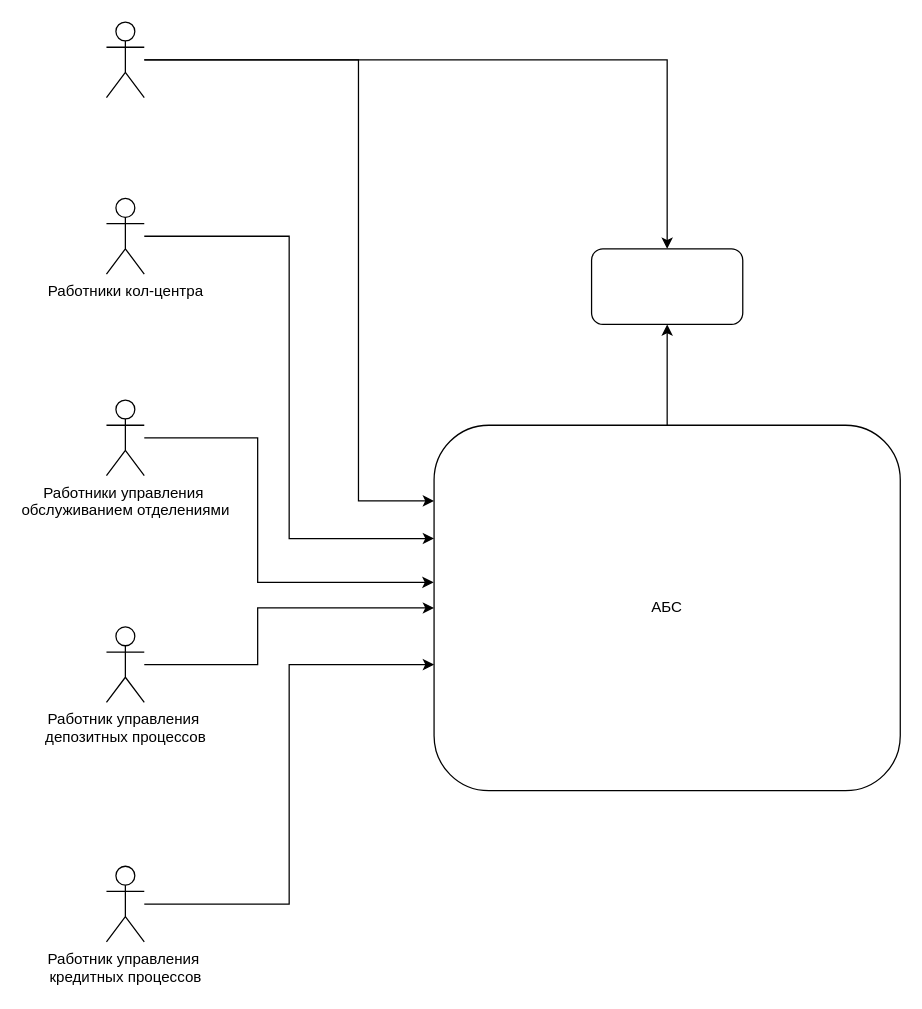
This 922x1009 diagram has some shape labels left out. Here are the shapes that lost their labels. From the top down, the centre of each, then its label:
At point 124,59: "Работники IT-отдела".
At point 666,286: "СМС-шлюз".
